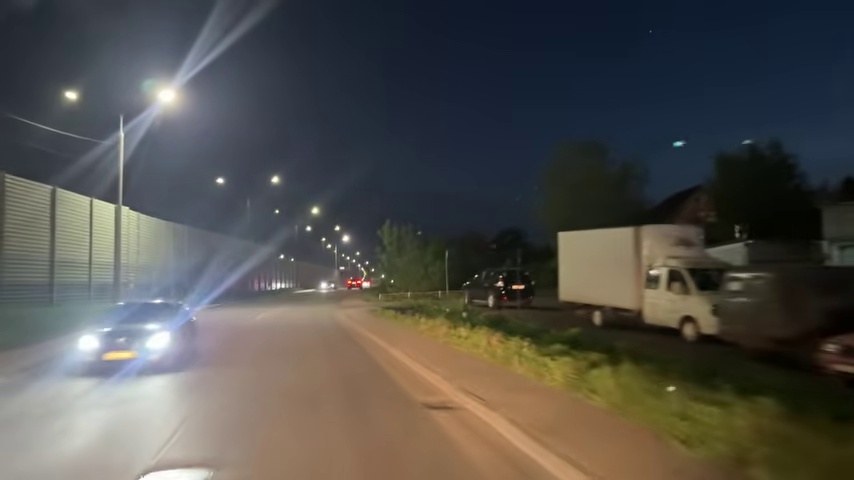acesa: (153, 85, 180, 109), (61, 87, 82, 106), (267, 172, 284, 188), (212, 174, 229, 190), (307, 203, 323, 219), (339, 231, 353, 245)
